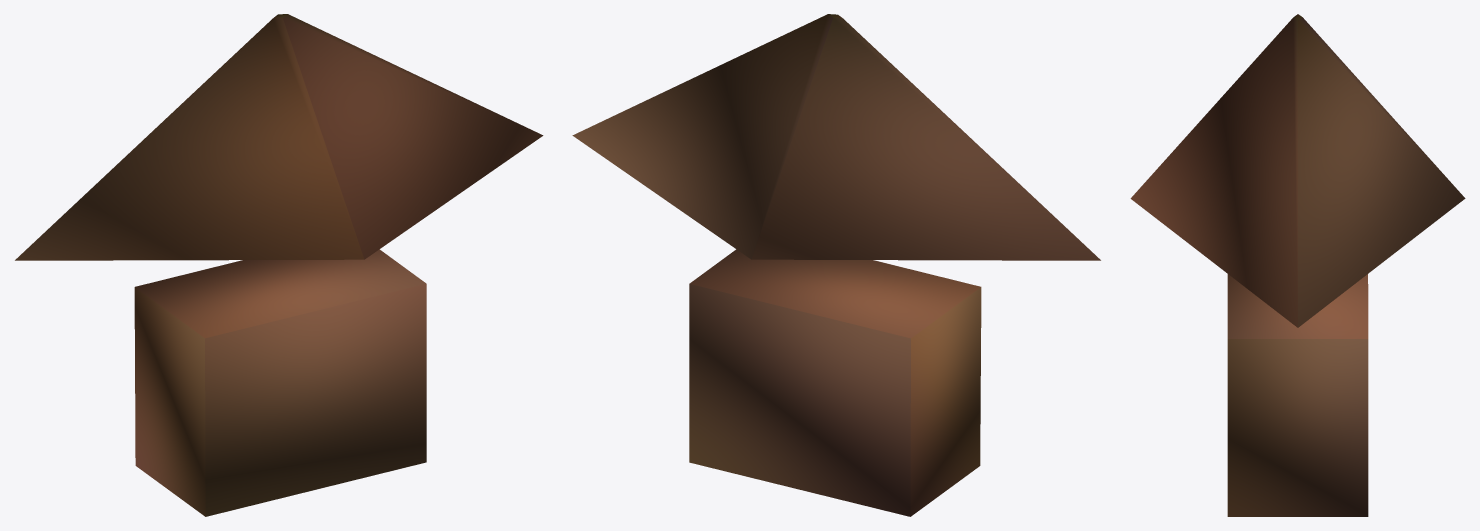
Rendered from structure_bk_foret_broceliande_0004.glb.
3 renders of one model, left to right at view 1: azimuth 30°, elevation 25°; view 2: azimuth 150°, elevation 25°; view 3: azimuth 270°, elevation 25°, orthographic.
Visible parts, largest first — view 1: structure_bk_004; view 2: structure_bk_004; view 3: structure_bk_004.
Part boxes in pixels (left/top/right/bottom): structure_bk_004: left=15, top=14, right=543, bottom=516; structure_bk_004: left=572, top=14, right=1100, bottom=516; structure_bk_004: left=1130, top=14, right=1465, bottom=516.
Size of the model in its own units: 3.95 by 3.2 by 2.17.
